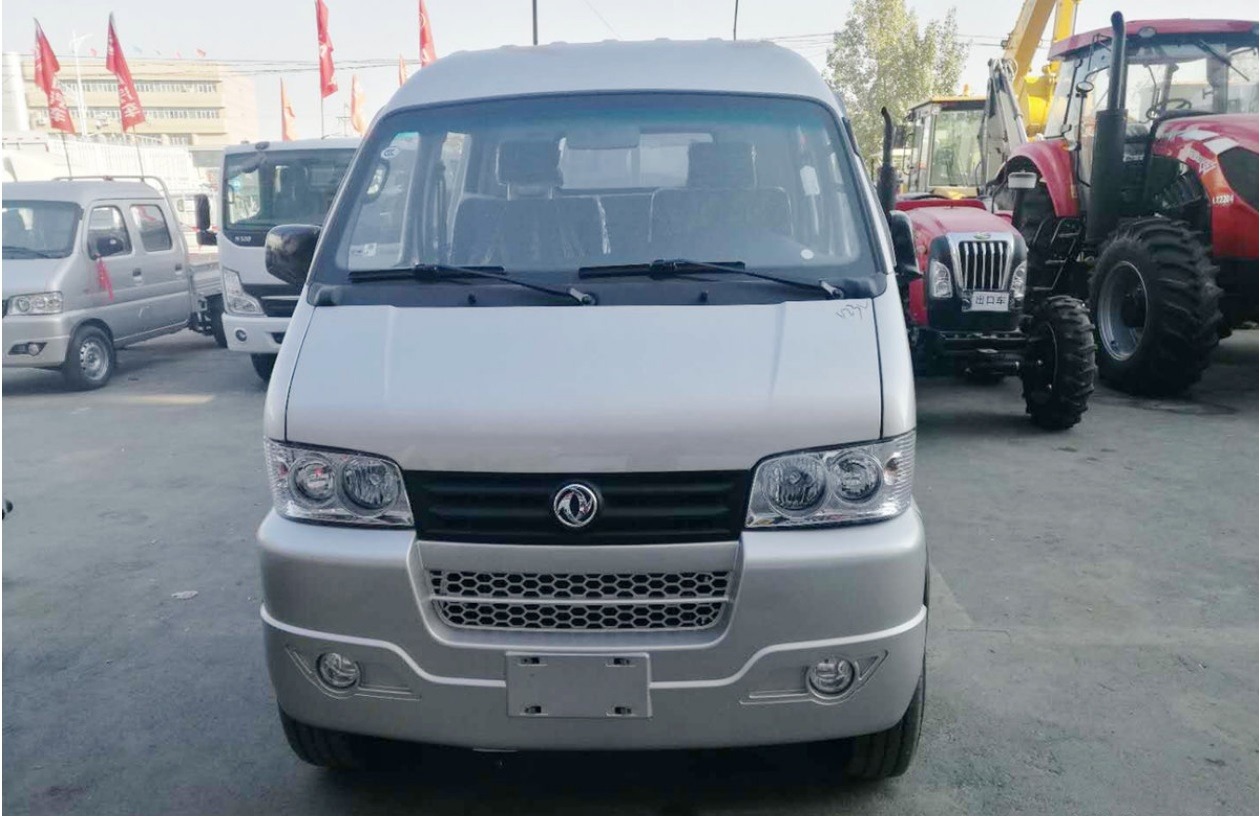minibus: (244, 17, 960, 785)
